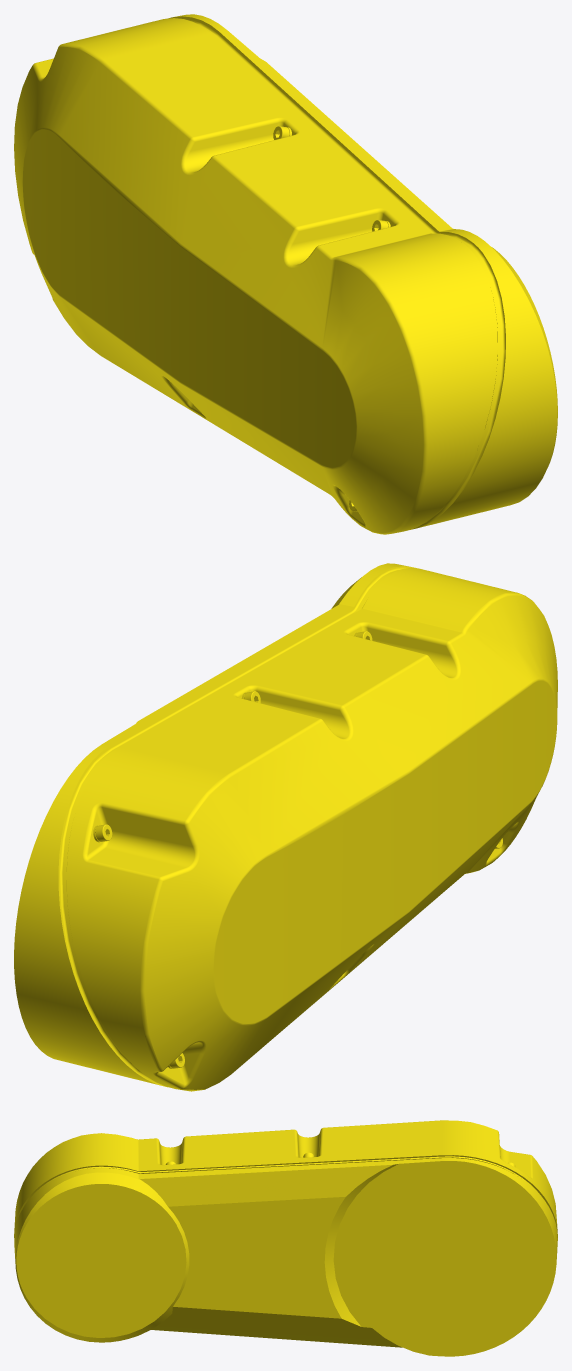
3 views of the same model, one above another, from view 1: azimuth 30°, elevation 25°; view 2: azimuth 150°, elevation 25°; view 3: azimuth 270°, elevation 25° (orthographic). The views are drawn at different scales.
Parts seen in each view (by area): view 1: TX40 ARM; view 2: TX40 ARM; view 3: TX40 ARM.
Boxes of the visible parts, x1,y1,x2,y2 form: TX40 ARM: [14, 14, 557, 534]; TX40 ARM: [14, 563, 557, 1091]; TX40 ARM: [14, 1120, 557, 1356].
Bounding box in the file's own units: 89.95 × 140 × 351.
